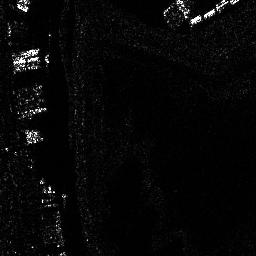ship: (16, 107, 48, 119)
